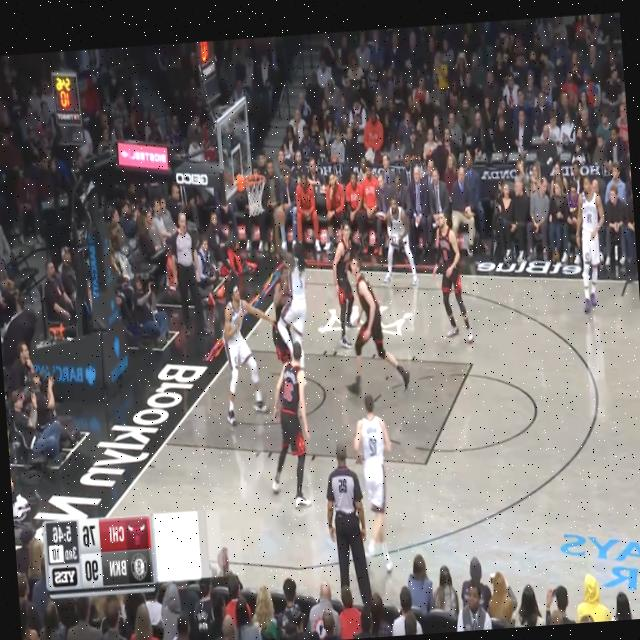foul: (259, 230, 327, 403)
no foul: (326, 213, 408, 368)
